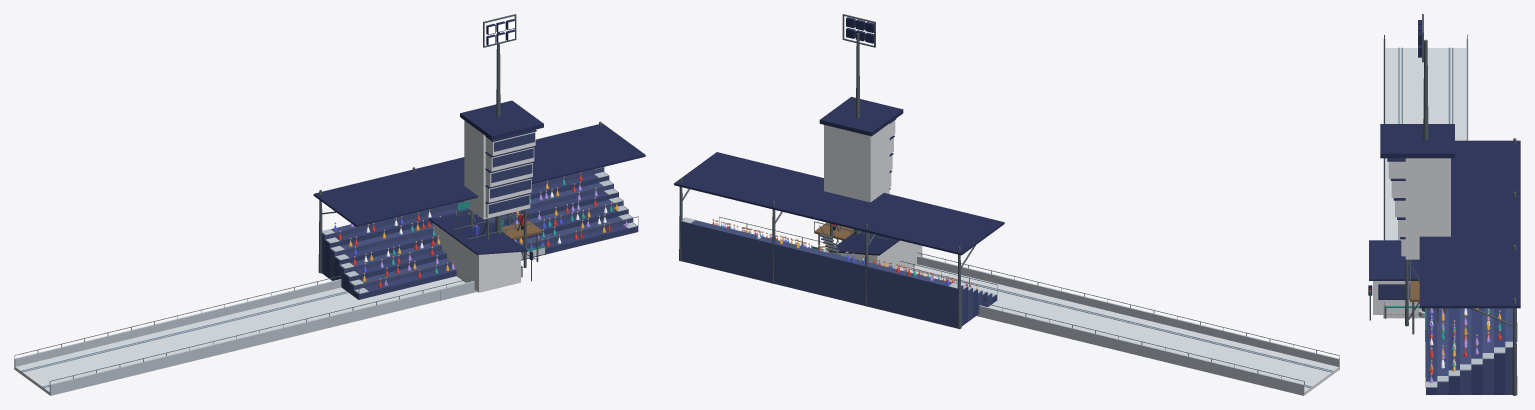
Rendered from skijump.glb.
The picture shows the model from 3 angles, left to right: view 1: azimuth 30°, elevation 25°; view 2: azimuth 150°, elevation 25°; view 3: azimuth 270°, elevation 25°; orthographic projection. The views are drawn at different scales.
Visible parts, largest first — view 1: Grandstand, Inrun, JudgesTower, StartHouse, LightMast, CoachStand, Table; view 2: Grandstand, Inrun, JudgesTower, StartHouse, LightMast; view 3: Grandstand, JudgesTower, Inrun, StartHouse, LightMast, CoachStand.
Boxes of the visible parts, x1,y1,x2,y2 form: Grandstand: (313,121,645,299); Inrun: (14,275,473,395); JudgesTower: (460,100,543,267); StartHouse: (428,201,533,292); LightMast: (483,14,516,233); CoachStand: (454,211,542,262); Table: (433,276,477,300); Grandstand: (674,152,1004,329); Inrun: (907,252,1339,395); JudgesTower: (819,97,903,255); StartHouse: (829,231,922,270); LightMast: (842,14,875,234); Grandstand: (1419,138,1520,395); JudgesTower: (1380,124,1454,326); Inrun: (1383,34,1468,318); StartHouse: (1368,240,1421,320); LightMast: (1417,14,1429,317); CoachStand: (1409,259,1439,334).
Size of the model in its own units: 65.52 by 25.8 by 12.05.
